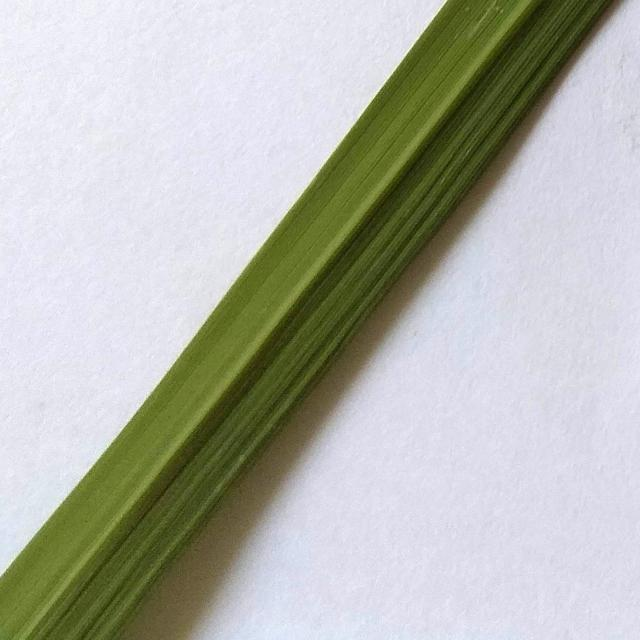healthy: (0, 0, 622, 640)
